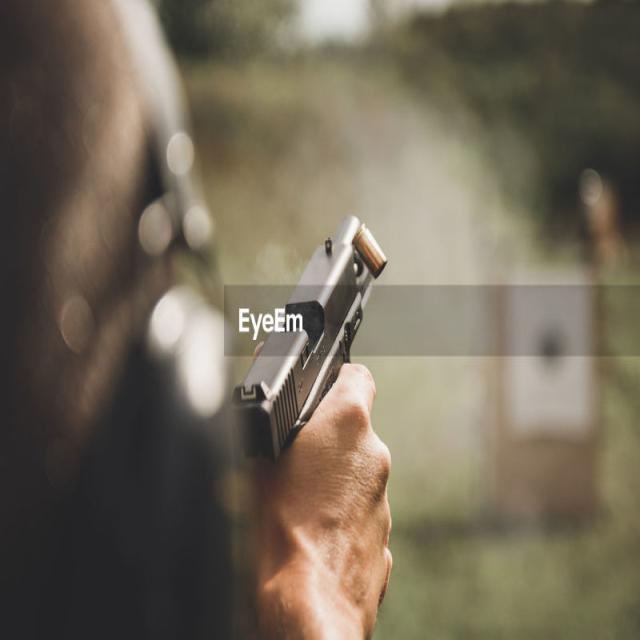HandGun: (231, 216, 388, 461)
